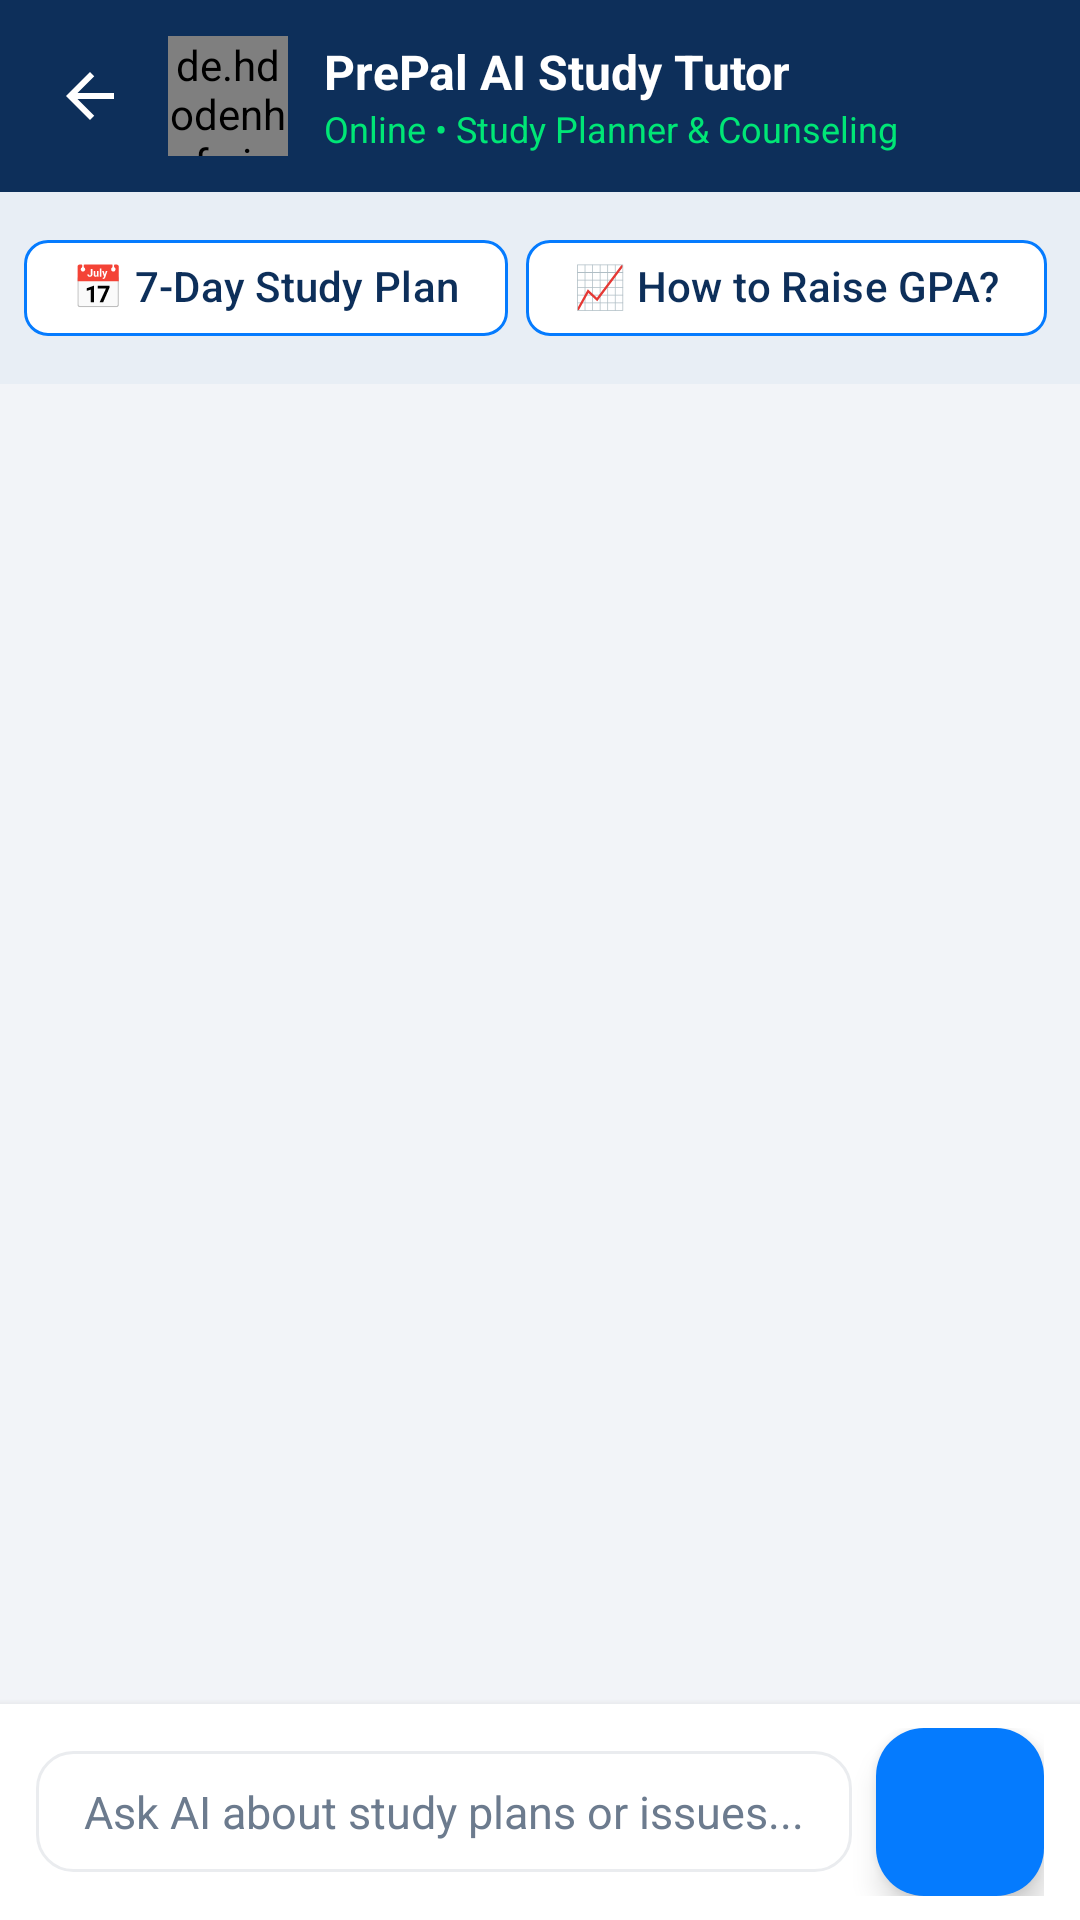

Named icons in this screenshot (1080×1920) and their bounding boxes, (x1, y1, x2, y2):
arrow back: (66, 72, 114, 120)
